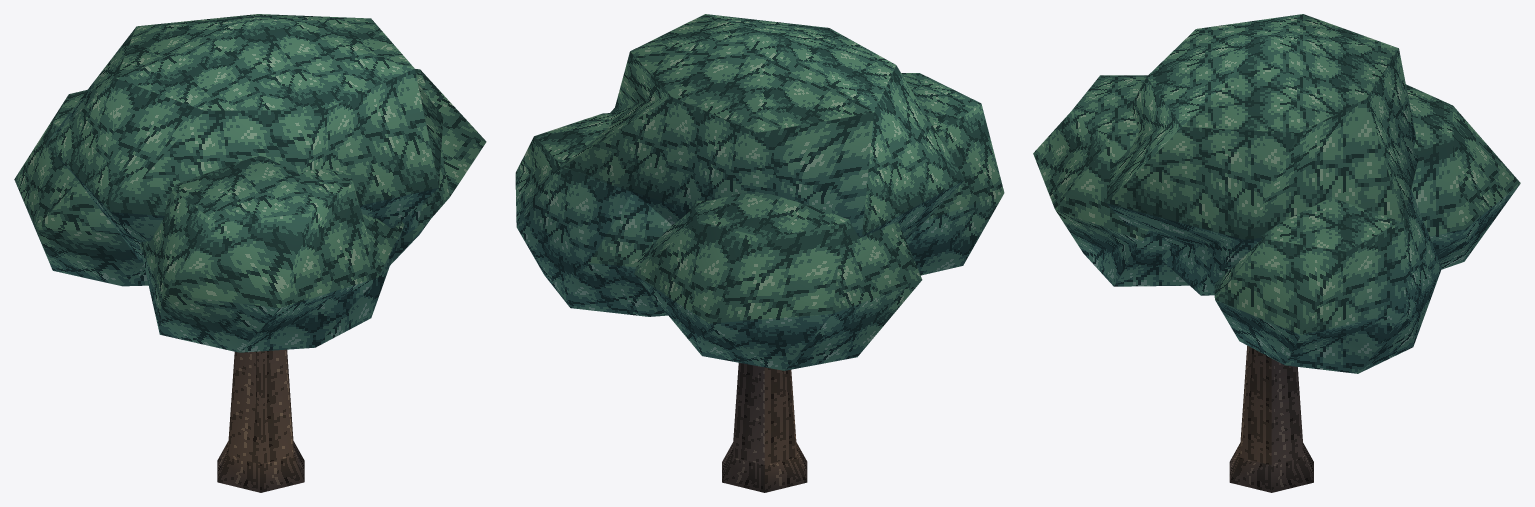
Rendered from mnat.oak__old.glb.
3 renders of one model, left to right at view 1: azimuth 30°, elevation 25°; view 2: azimuth 150°, elevation 25°; view 3: azimuth 270°, elevation 25°, orthographic. The views are drawn at different scales.
Visible parts, largest first — view 1: kit_crown, kit_trunk; view 2: kit_crown, kit_trunk; view 3: kit_crown, kit_trunk.
Part boxes in pixels (x1,y1,x2,y2): kit_crown: (14, 14, 486, 352); kit_trunk: (217, 349, 304, 492); kit_crown: (515, 14, 1004, 370); kit_trunk: (722, 363, 807, 492); kit_crown: (1033, 14, 1520, 373); kit_trunk: (1229, 345, 1313, 492).
Bounding box in the file's own units: 7.85 × 7.76 × 7.92.
Materials: 2 (2 with a texture image).
